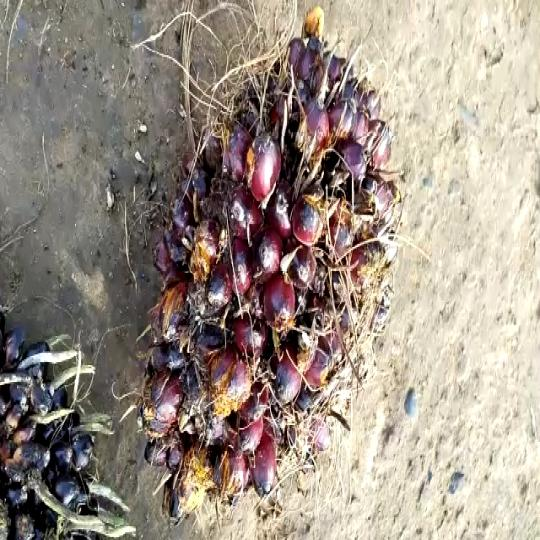kurang masak: (150, 20, 404, 540)
